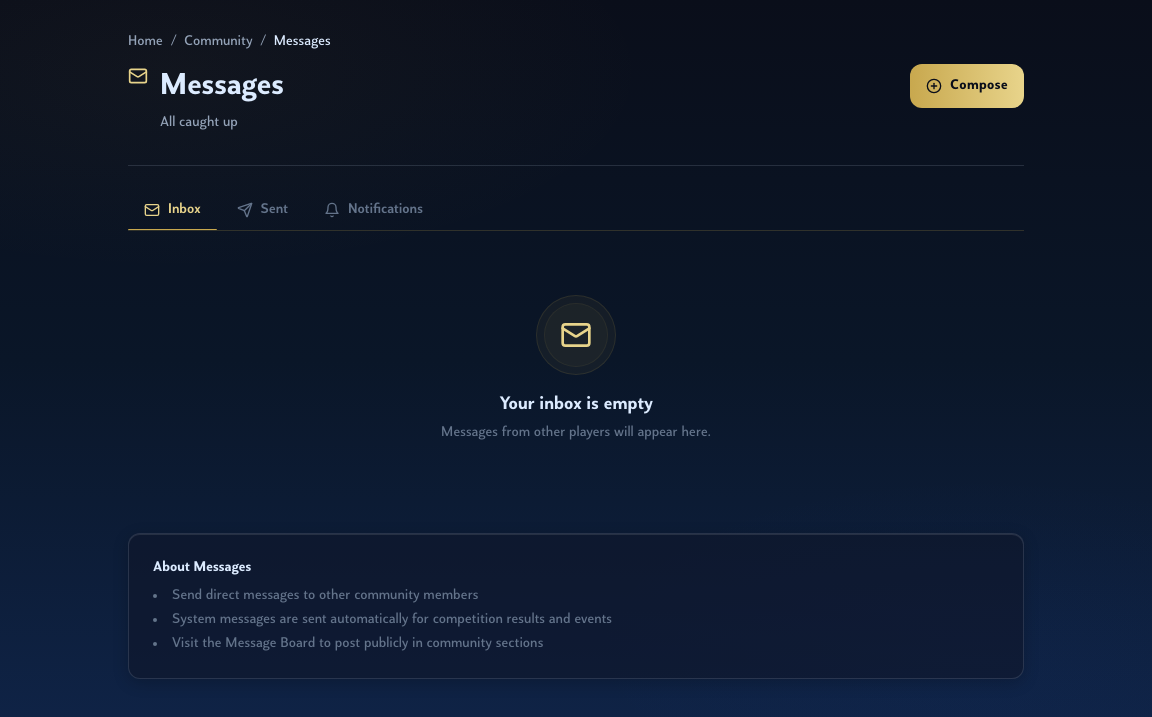
Test: MessagesPage — notifications four-state (Equoria-l22ki) › renders an error state with retry (not a false empty) when the notifications fetch fails
The image size is (1152, 717).
# Switch to the Notifications tab.
Click the tab with test id "tab-notifications": (374,210) x1=308 y1=190 x2=439 y2=230
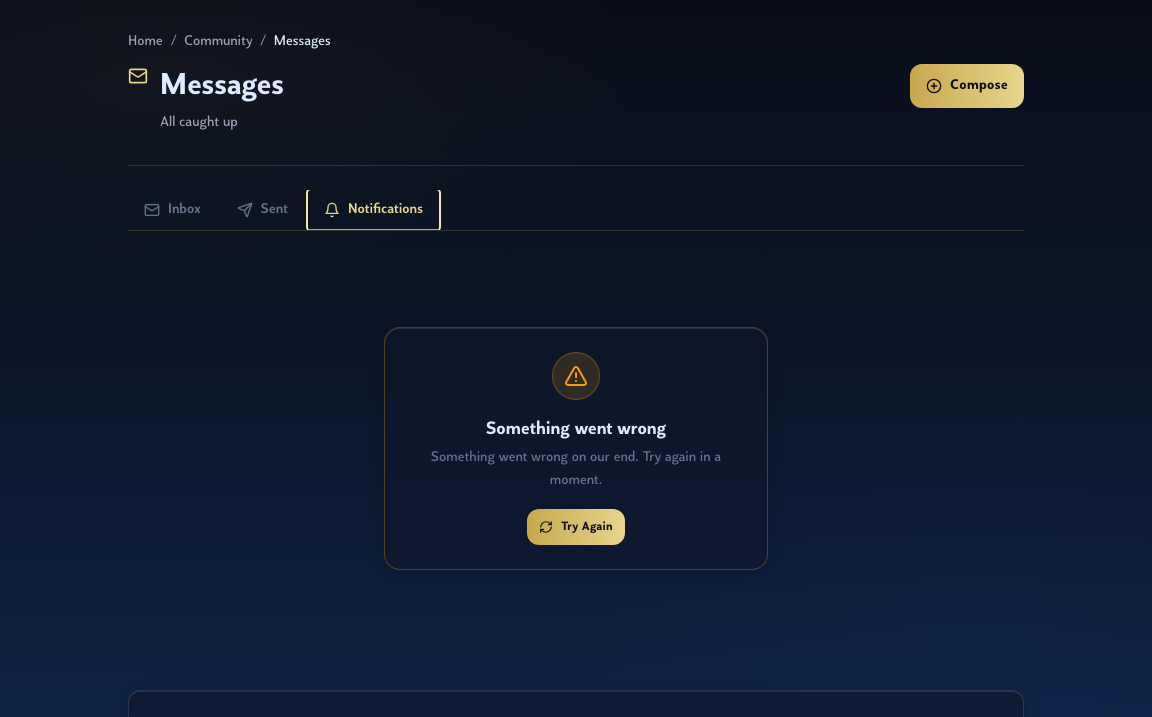
Expected: the button "Try Again" is shown, x1=527 y1=508 x2=625 y2=544
